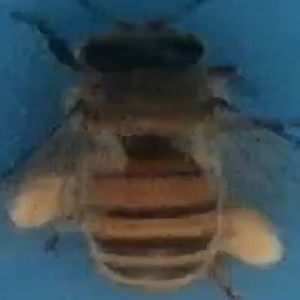bee: (7, 7, 290, 293)
